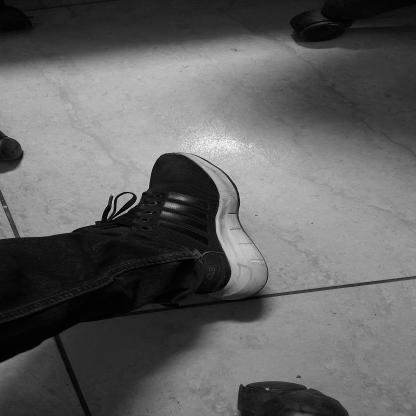ankle: (189, 250, 205, 256)
heel: (229, 295, 243, 301)
left_foot: (120, 154, 272, 302)
pinky: (157, 164, 166, 169)
toe: (196, 161, 207, 167)
